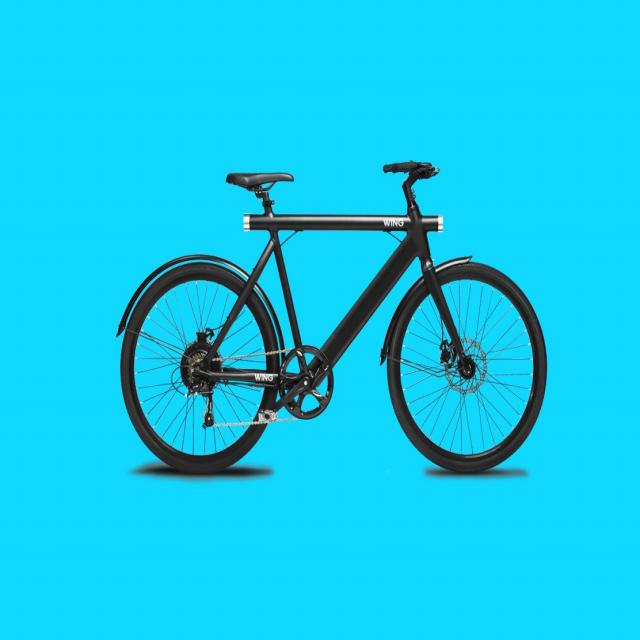bicycle: (93, 128, 557, 522)
